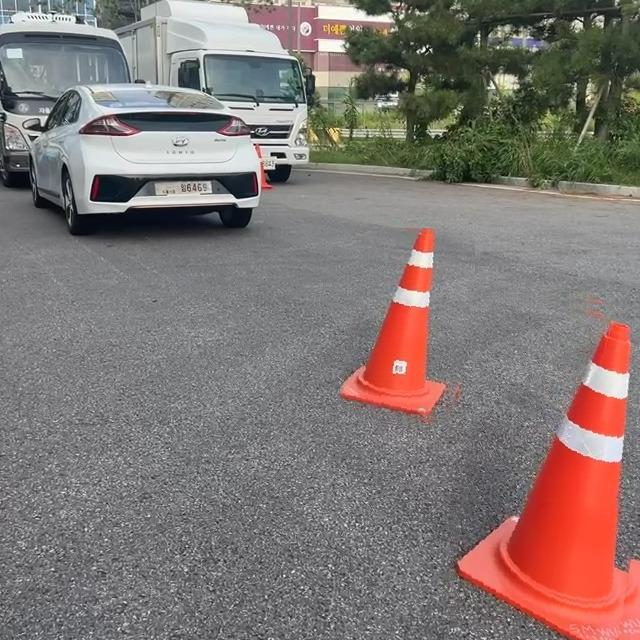fallen_object: (500, 270, 640, 640), (299, 187, 462, 407), (212, 82, 292, 219)
